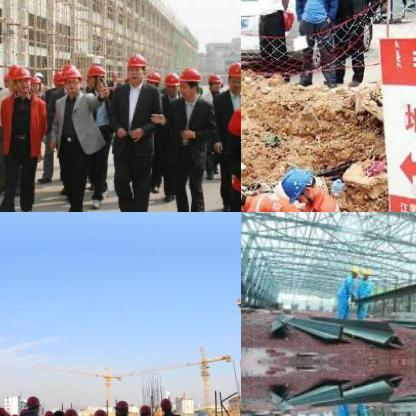Helmet: (276, 166, 318, 204), (176, 64, 200, 98), (122, 50, 146, 82), (83, 60, 105, 88), (60, 63, 80, 92), (11, 63, 31, 92), (224, 59, 240, 91), (163, 70, 179, 94), (144, 67, 160, 89), (28, 72, 42, 94), (49, 68, 63, 90), (207, 71, 221, 91), (24, 394, 38, 410), (112, 400, 127, 414), (136, 402, 152, 415), (158, 396, 172, 410), (60, 406, 78, 415), (91, 407, 107, 415), (42, 408, 55, 415), (0, 405, 7, 415), (9, 409, 19, 415)
